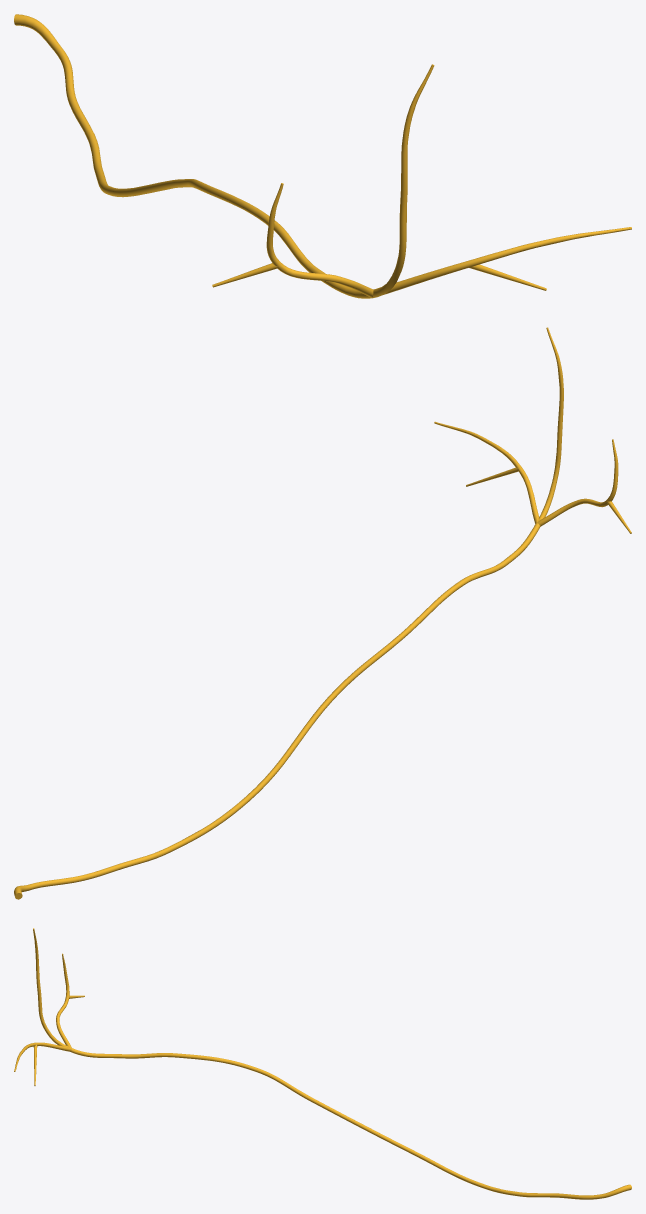
File: nervoso-ophthalmic-nerve-r.glb
The picture shows the model from 3 angles, top to bottom: view 1: azimuth 30°, elevation 25°; view 2: azimuth 150°, elevation 25°; view 3: azimuth 270°, elevation 25°; orthographic projection. The views are drawn at different scales.
Visible parts, largest first — view 1: Ophthalmic nerve.r; view 2: Ophthalmic nerve.r; view 3: Ophthalmic nerve.r.
Boxes of the visible parts, x1=… form: Ophthalmic nerve.r: x1=14, y1=14, x2=631, y2=298; Ophthalmic nerve.r: x1=14, y1=327, x2=631, y2=899; Ophthalmic nerve.r: x1=14, y1=928, x2=631, y2=1199.
Bounding box in the file's own units: 0.0293 × 0.036 × 0.0861.
